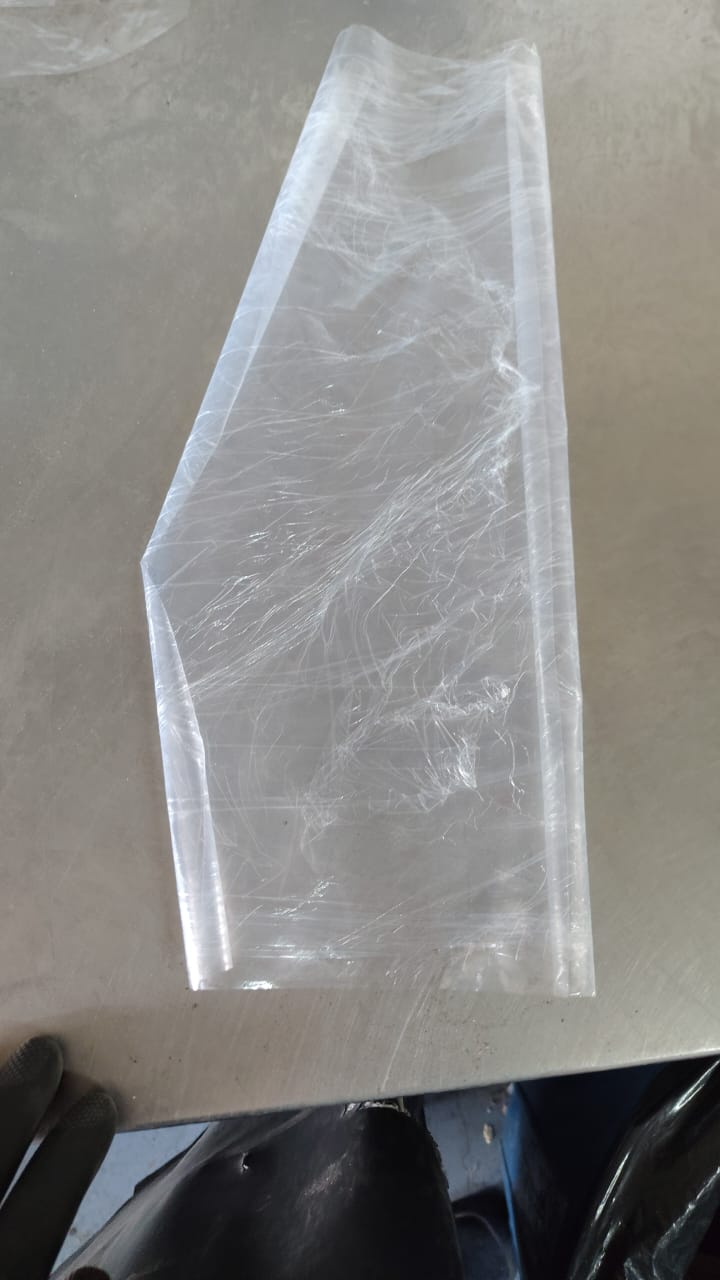Plastico: (139, 23, 593, 1000)
